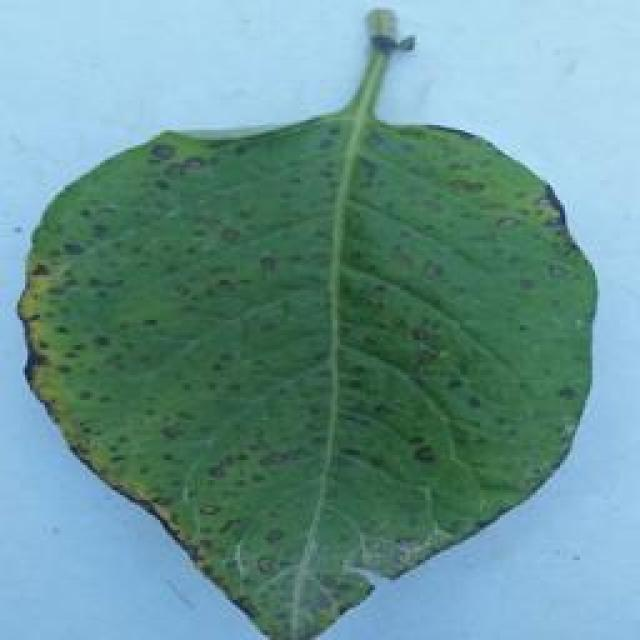Potato_Early_Blight: (1, 6, 630, 632)
